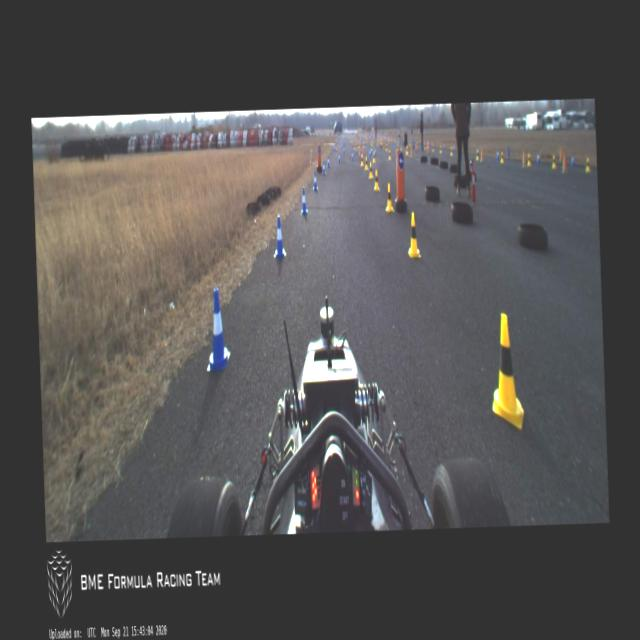blue_cone: (204, 288, 230, 370), (272, 215, 286, 258), (300, 186, 307, 212), (312, 172, 318, 190), (326, 154, 330, 168), (321, 160, 325, 174), (536, 152, 540, 165), (570, 154, 574, 166), (351, 150, 354, 160), (338, 152, 340, 162)
unknown_cone: (561, 154, 567, 173), (520, 151, 526, 167), (479, 146, 484, 162), (410, 144, 412, 156)
yellow_cone: (489, 313, 524, 430), (406, 212, 420, 256), (385, 184, 393, 212), (373, 168, 379, 192), (584, 156, 590, 172), (368, 162, 372, 178), (552, 153, 556, 169), (526, 152, 530, 166), (364, 156, 368, 169), (372, 151, 376, 163), (360, 154, 363, 166), (501, 150, 504, 162), (388, 149, 391, 161), (476, 148, 478, 161), (450, 146, 452, 156), (439, 144, 441, 153), (406, 146, 408, 154)
